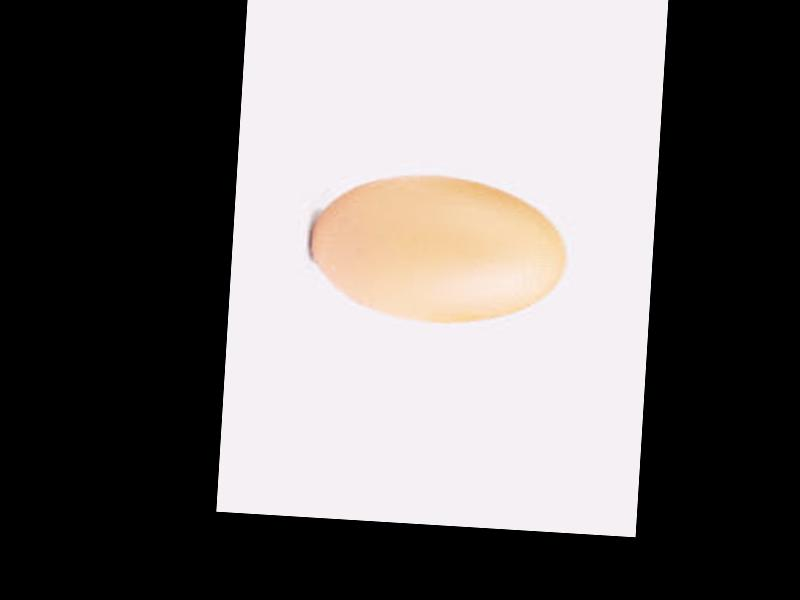Eggs: (304, 169, 574, 328)
